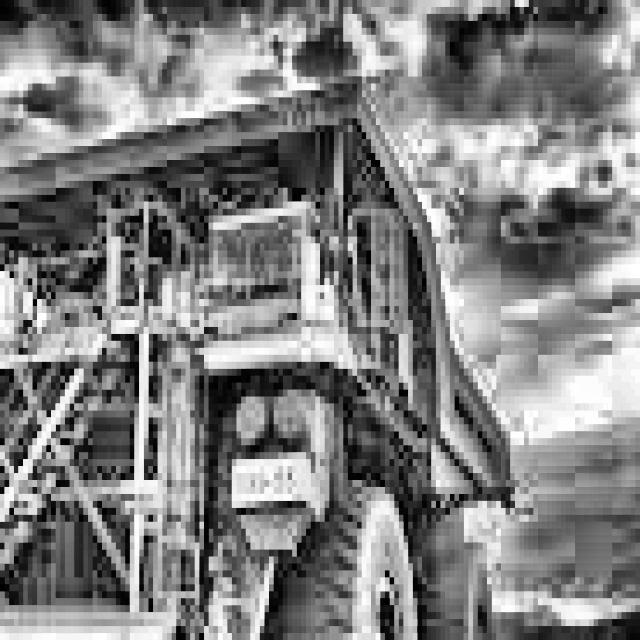dump_truck: (0, 62, 575, 640)
